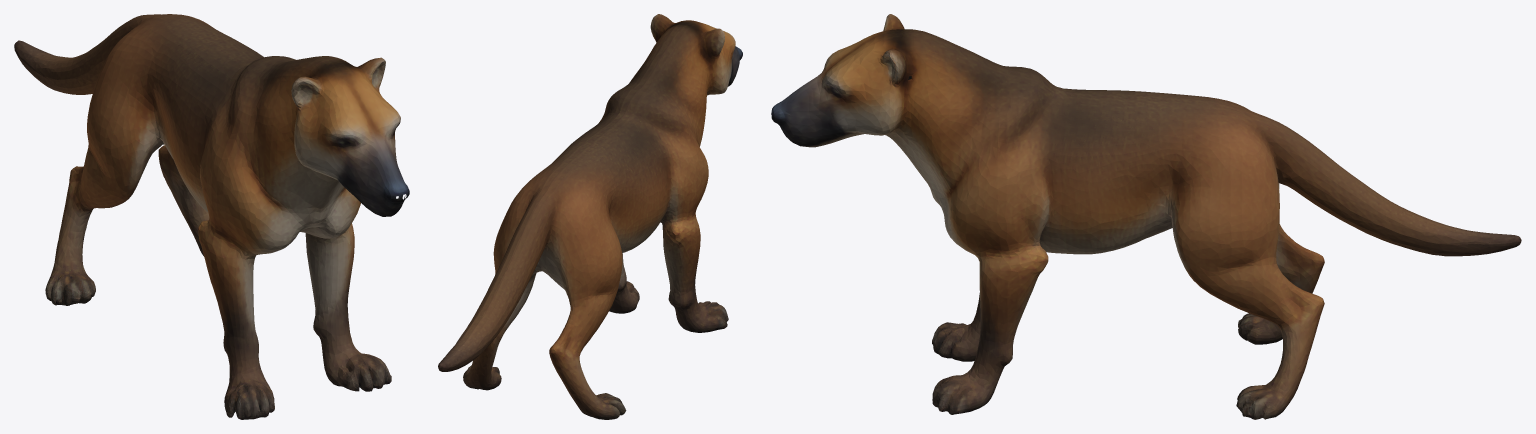
3 views of the same model, side by side, from view 1: azimuth 30°, elevation 25°; view 2: azimuth 150°, elevation 25°; view 3: azimuth 270°, elevation 25° (orthographic). The views are drawn at different scales.
Parts seen in each view (by area): view 1: world; view 2: world; view 3: world.
Part boxes in pixels (x1,y1,x2,y2): world: [14, 14, 409, 419]; world: [438, 14, 742, 419]; world: [771, 14, 1521, 419].
Bounding box in the file's own units: 0.4476 × 0.7482 × 1.47.
2 materials, 1 textured.
